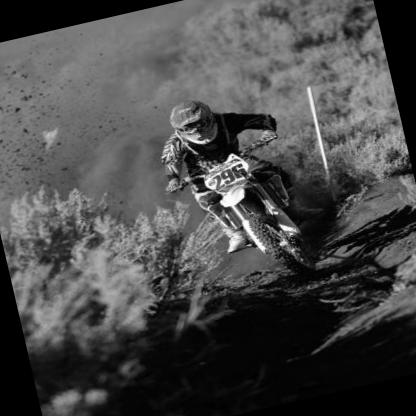moto: (175, 140, 345, 298)
